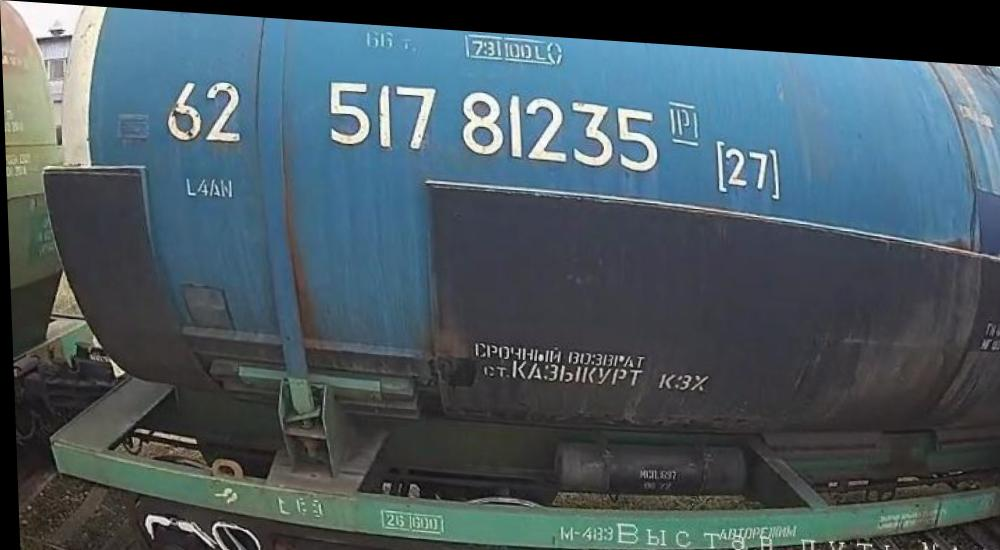Wagon-number: (321, 70, 664, 167)
